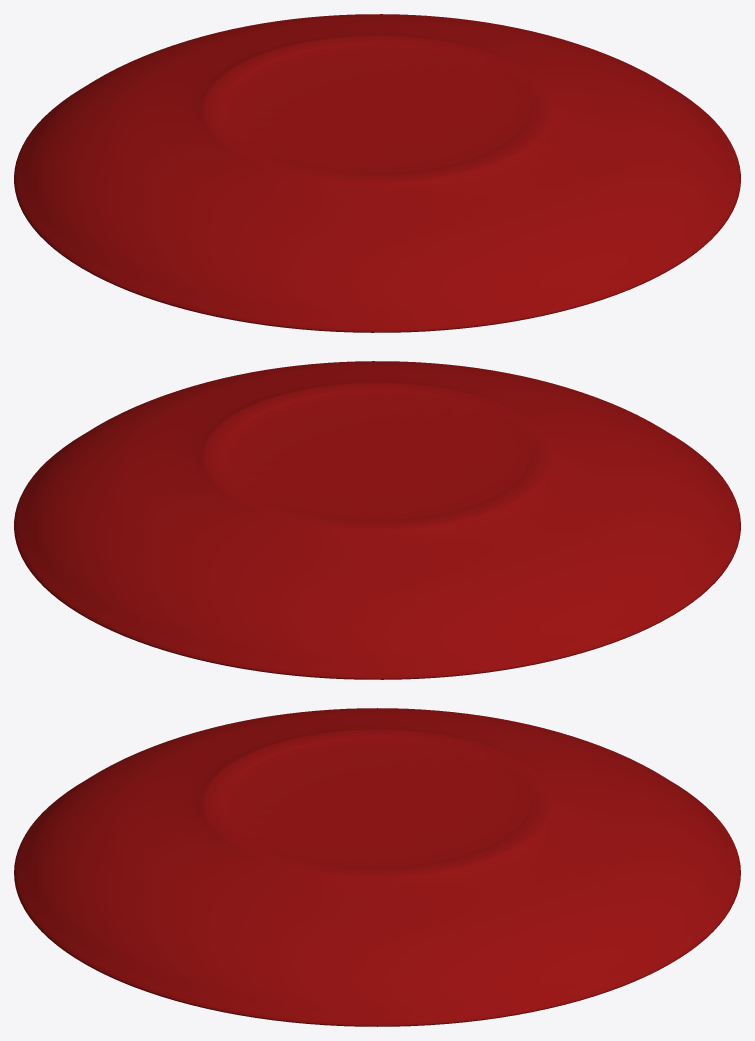
File: plate_new.glb
3 renders of one model, top to bottom at view 1: azimuth 30°, elevation 25°; view 2: azimuth 150°, elevation 25°; view 3: azimuth 270°, elevation 25°, orthographic.
Parts seen in each view (by area): view 1: Cylinder_0; view 2: Cylinder_0; view 3: Cylinder_0.
Part boxes in pixels (bbox=[...]): Cylinder_0: bbox=[14, 14, 740, 332]; Cylinder_0: bbox=[14, 361, 740, 679]; Cylinder_0: bbox=[14, 708, 740, 1026].
Bounding box in the file's own units: 9.56 × 1.04 × 9.56.
